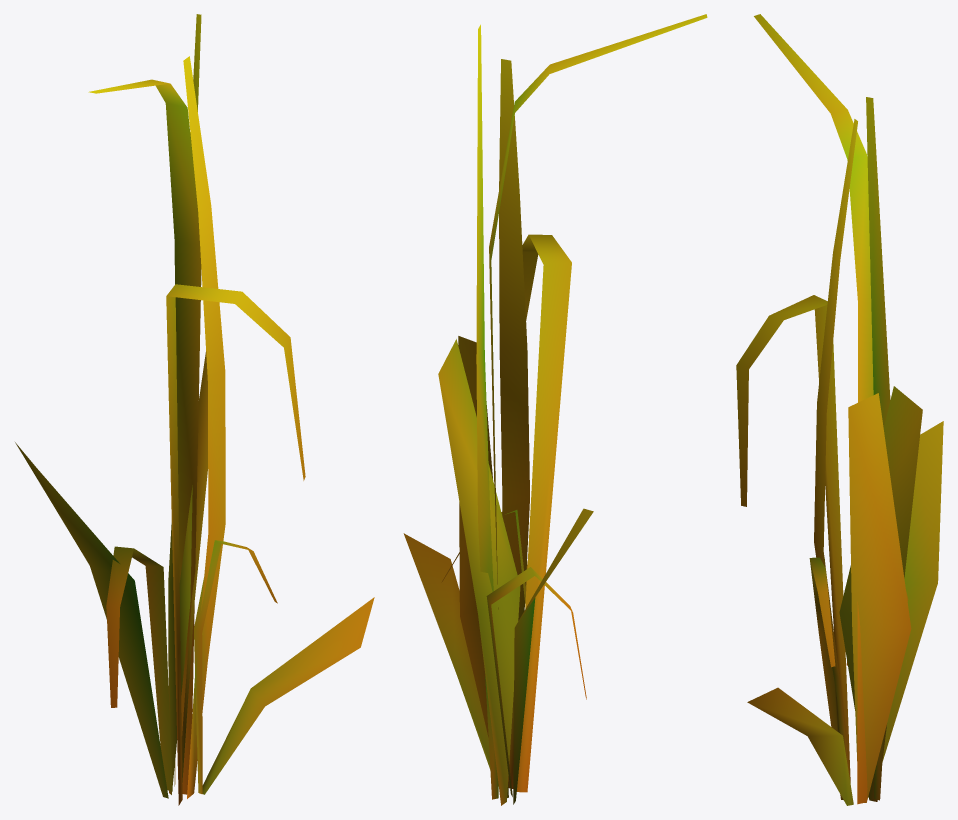
File: SM_RicePlants_10.fbx
The picture shows the model from 3 angles, left to right: view 1: azimuth 30°, elevation 25°; view 2: azimuth 150°, elevation 25°; view 3: azimuth 270°, elevation 25°; orthographic projection. The views are drawn at different scales.
Parts seen in each view (by area): view 1: SM_RicePlants_10; view 2: SM_RicePlants_10; view 3: SM_RicePlants_10.
Boxes of the visible parts, <box> form: SM_RicePlants_10: <box>15,14,374,805</box>; SM_RicePlants_10: <box>403,14,707,805</box>; SM_RicePlants_10: <box>736,14,943,805</box>.
Bounding box in the file's own units: 0.5793 × 1.46 × 0.3796.
